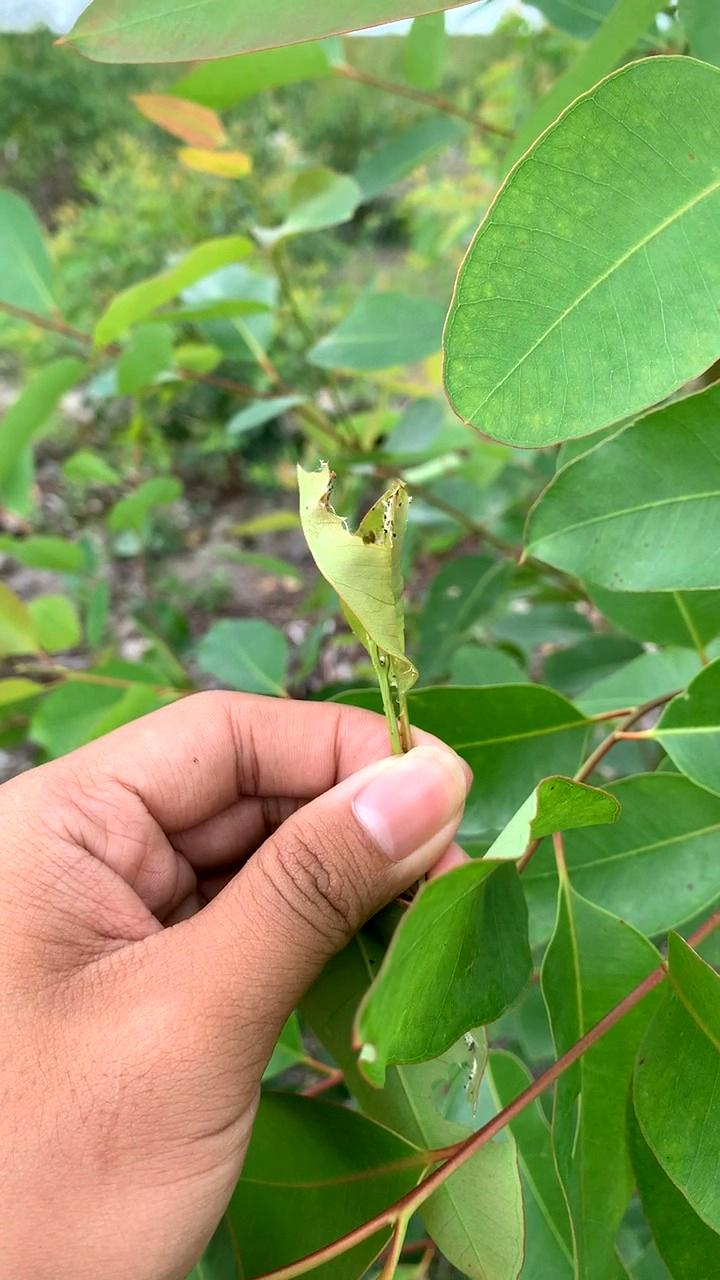Leaf Roller - Leaf: (289, 438, 433, 708)
